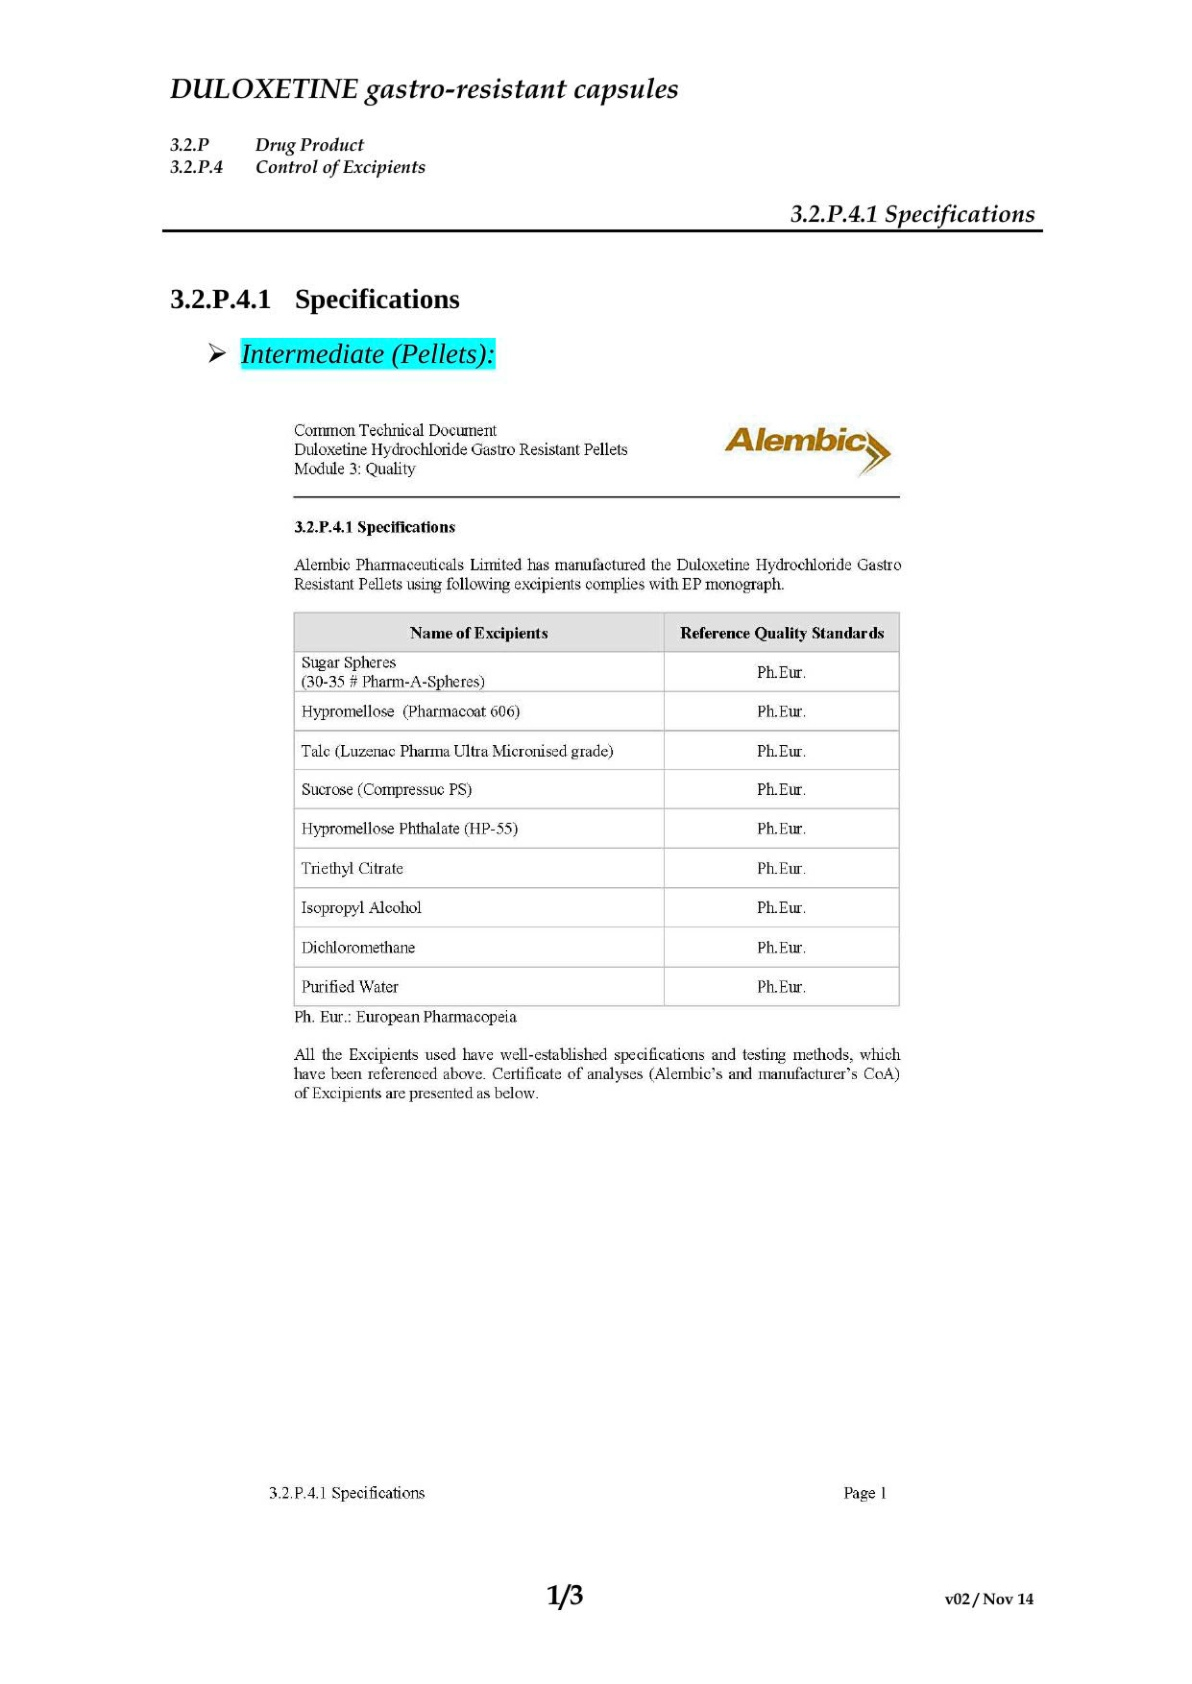full_lined: (293, 611, 900, 1007)
